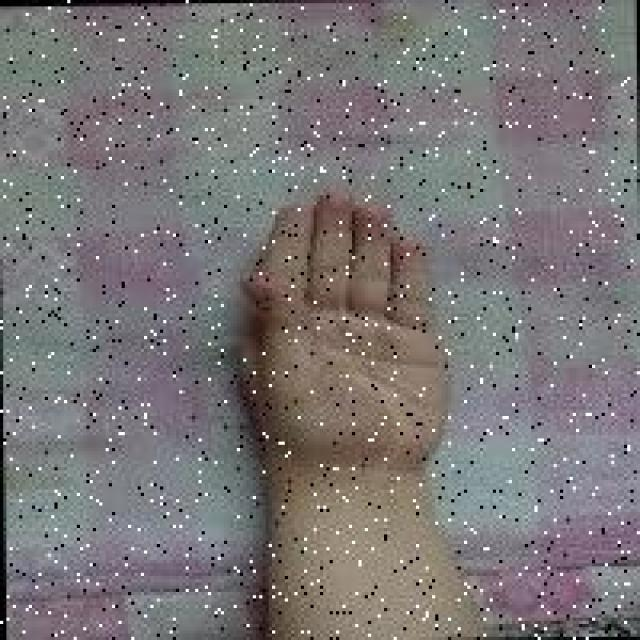B: (232, 179, 450, 474)
